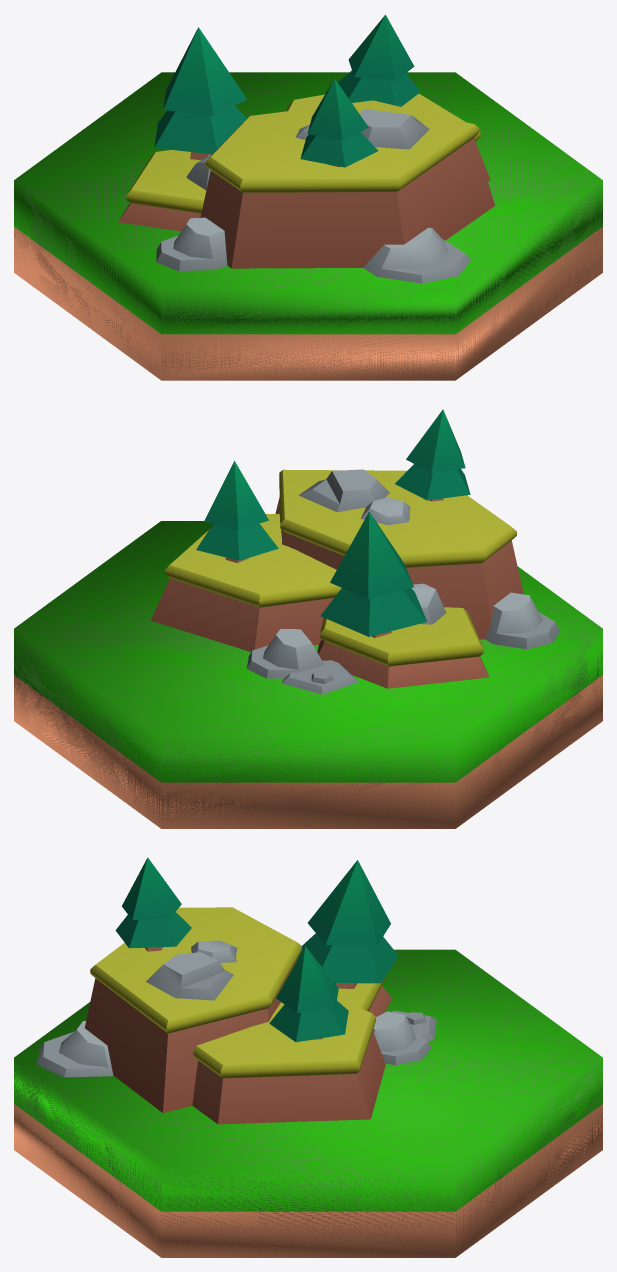
File: hill_forest.glb
3 views of the same model, one above another, from view 1: azimuth 30°, elevation 25°; view 2: azimuth 150°, elevation 25°; view 3: azimuth 270°, elevation 25° (orthographic).
Parts seen in each view (by area): view 1: grass, hills_A_trees; view 2: grass, hills_A_trees; view 3: grass, hills_A_trees.
Part boxes in pixels (left/top/right/bottom): grass: left=14, top=72, right=602, bottom=380; hills_A_trees: left=118, top=15, right=494, bottom=283; grass: left=14, top=521, right=602, bottom=828; hills_A_trees: left=150, top=409, right=559, bottom=694; grass: left=14, top=949, right=602, bottom=1257; hills_A_trees: left=37, top=857, right=436, bottom=1124.
Size of the model in its own units: 1 by 0.5763 by 1.15.
2 materials, 2 textured.
